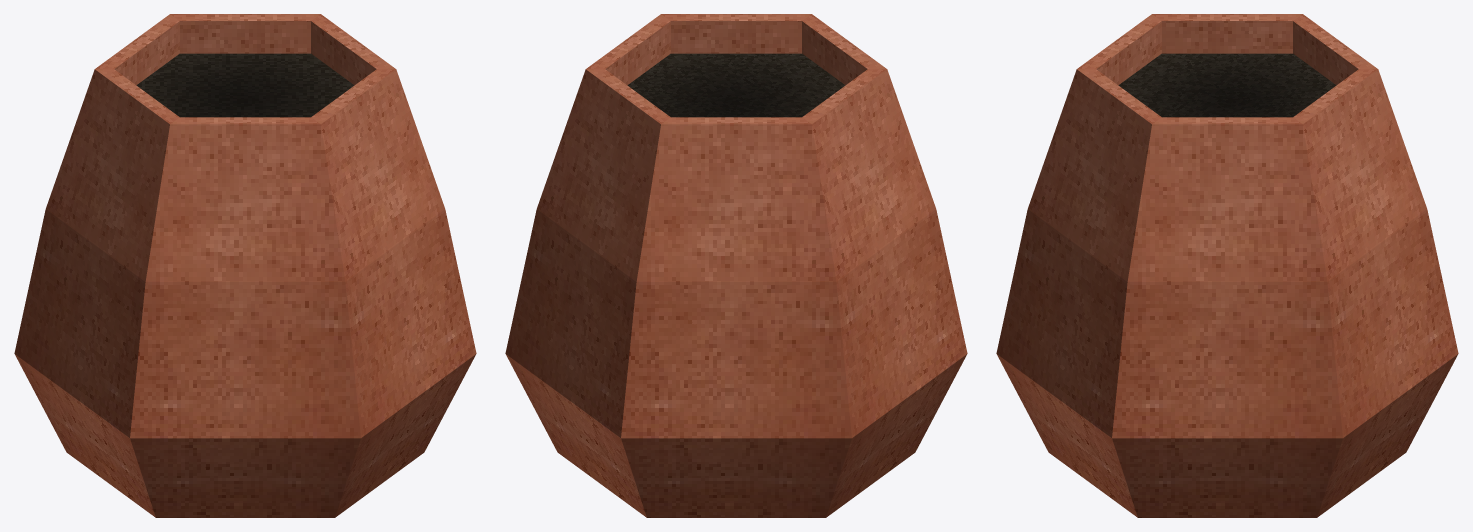
File: pot5.glb
The picture shows the model from 3 angles, left to right: view 1: azimuth 30°, elevation 25°; view 2: azimuth 150°, elevation 25°; view 3: azimuth 270°, elevation 25°; orthographic projection.
Parts seen in each view (by area): view 1: pot5; view 2: pot5; view 3: pot5.
Part boxes in pixels (x1,y1,x2,y2): pot5: [14, 14, 476, 517]; pot5: [505, 14, 967, 517]; pot5: [996, 14, 1458, 517].
Size of the model in its own units: 0.4313 by 0.4557 by 0.498.
1 material, 1 textured.
